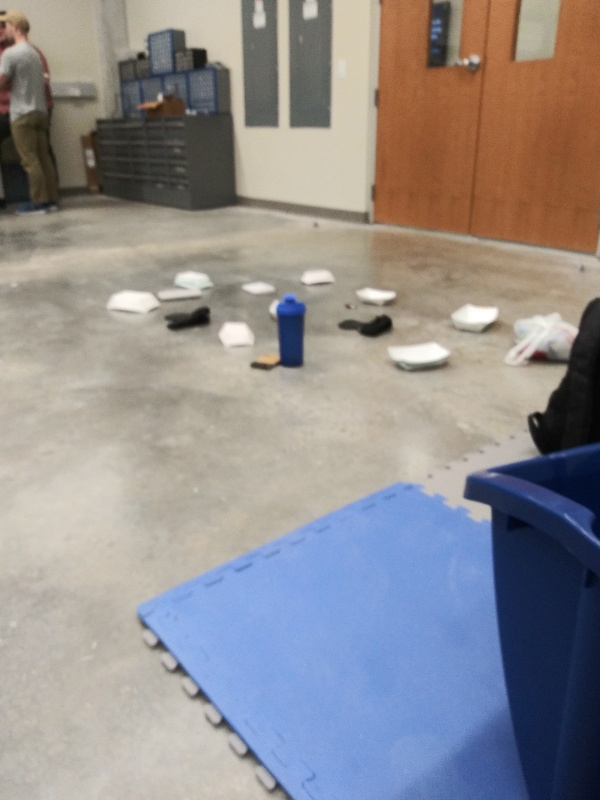plate: (383, 339, 453, 372), (448, 299, 504, 335), (103, 287, 162, 315), (215, 320, 259, 352), (170, 266, 219, 291), (351, 282, 400, 307), (296, 268, 339, 287)
